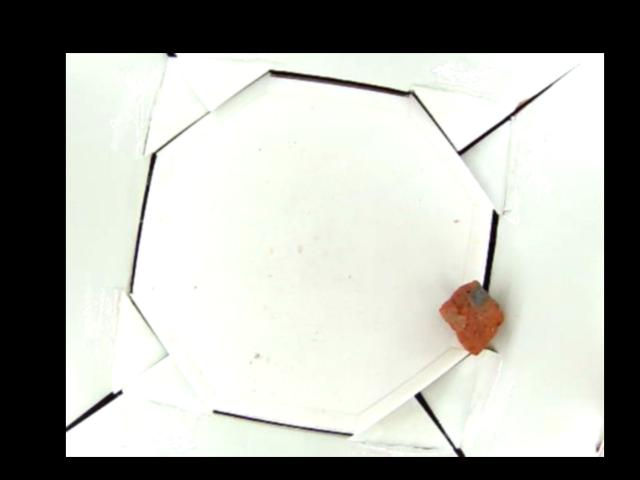Brisk: (440, 281, 504, 356)
